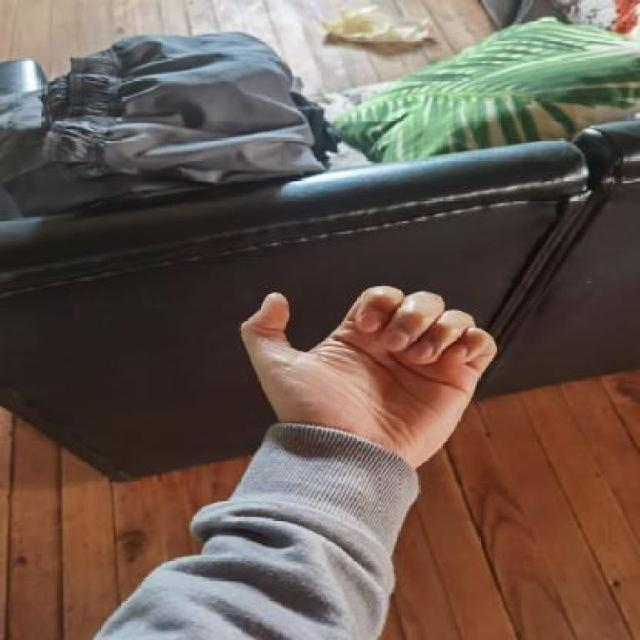E: (215, 260, 516, 482)
